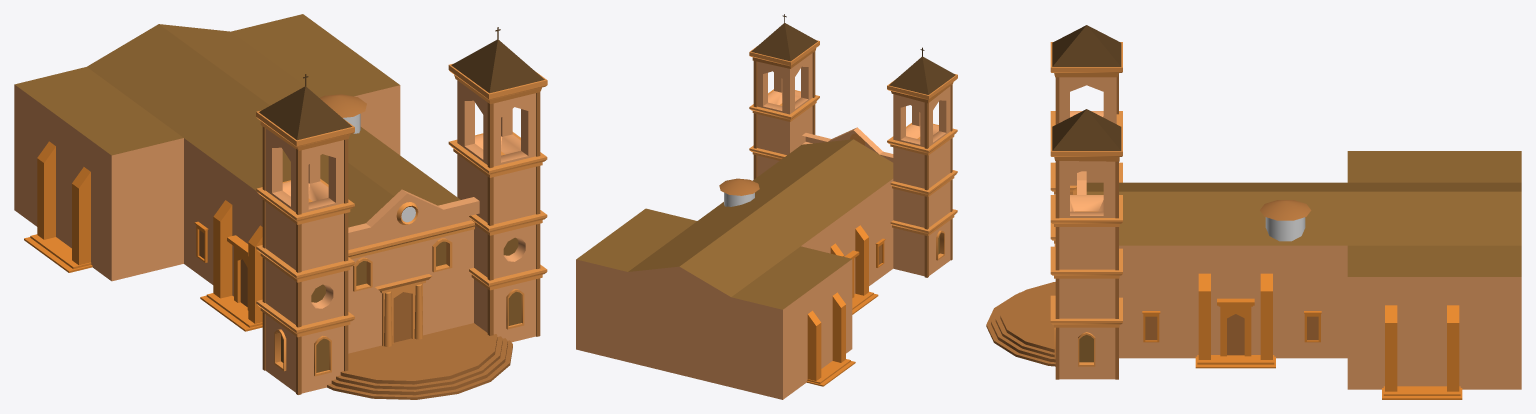
File: Church.glb
3 views of the same model, side by side, from view 1: azimuth 30°, elevation 25°; view 2: azimuth 150°, elevation 25°; view 3: azimuth 270°, elevation 25° (orthographic). The views are drawn at different scales.
Visible parts, largest first — view 1: EstructuraPrincipal, Torres, Cylinder, Cube.014, Cube.017, Cube.013, Plane.004, Cube.021, Cube.020; view 2: EstructuraPrincipal, Torres, Cube.017, Cube.014, Cube.013, Cube.020; view 3: EstructuraPrincipal, Torres, Cylinder, Cube.013, Cube.017, Cube.014, Cube.021, Cube.020, Cube.023.
Boxes of the visible parts, <box> form: EstructuraPrincipal: <box>14,14,479,353</box>; Torres: <box>256,27,547,393</box>; Cylinder: <box>327,323,512,399</box>; Cube.014: <box>262,92,540,394</box>; Cube.017: <box>24,141,92,272</box>; Cube.013: <box>200,200,262,331</box>; Plane.004: <box>348,220,475,346</box>; Cube.021: <box>227,235,248,310</box>; Cube.020: <box>320,94,366,133</box>; EstructuraPrincipal: <box>576,127,893,399</box>; Torres: <box>749,14,957,276</box>; Cube.017: <box>806,292,855,386</box>; Cube.014: <box>753,51,952,277</box>; Cube.013: <box>830,225,878,314</box>; Cube.020: <box>719,178,759,206</box>; EstructuraPrincipal: <box>1077,151,1521,389</box>; Torres: <box>1050,25,1122,379</box>; Cylinder: <box>986,282,1055,366</box>; Cube.013: <box>1195,273,1275,368</box>; Cube.017: <box>1382,305,1462,399</box>; Cube.014: <box>1055,74,1118,379</box>; Cube.021: <box>1217,298,1254,356</box>; Cube.020: <box>1260,200,1311,241</box>; Cube.023: <box>1142,311,1321,342</box>.
Bounding box in the file's own units: 27.91 × 24.02 × 43.08.
1 material, 1 textured.
